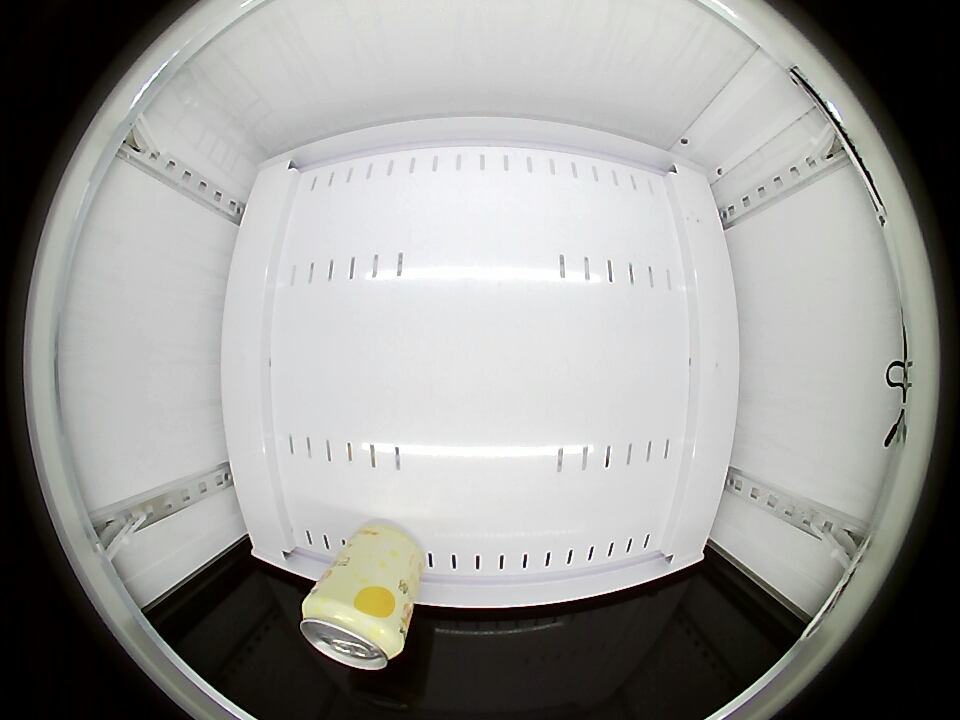mangguoxiaolao: (299, 588, 406, 670)
